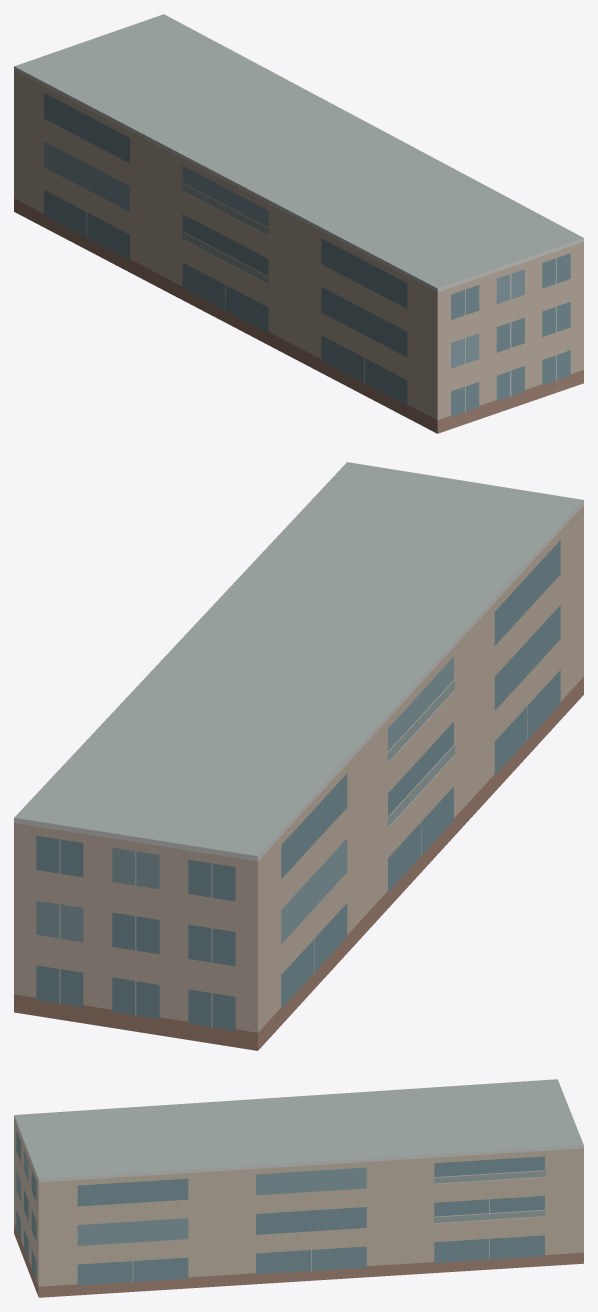
The model's file is survey-upis-32706767.glb.
3 renders of one model, top to bottom at view 1: azimuth 30°, elevation 25°; view 2: azimuth 150°, elevation 25°; view 3: azimuth 270°, elevation 25°, orthographic. The views are drawn at different scales.
Visible parts, largest first — view 1: survey-upis-32706767.tmp; view 2: survey-upis-32706767.tmp; view 3: survey-upis-32706767.tmp.
Part boxes in pixels (left/top/right/bottom): survey-upis-32706767.tmp: left=14, top=14, right=583, bottom=433; survey-upis-32706767.tmp: left=14, top=462, right=583, bottom=1050; survey-upis-32706767.tmp: left=14, top=1079, right=583, bottom=1297.
Bounding box in the file's own units: 16.59 × 9.15 × 39.89.
